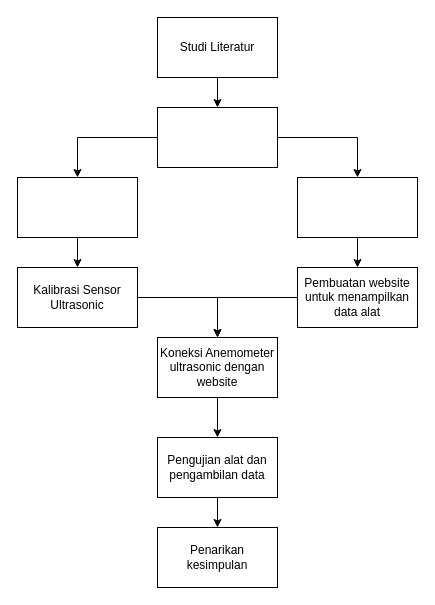
The diagram is 435 pixels wide and 605 high, and some of its shapes have lost their labels. Each missing label, with the box of its shape:
Perancangan Perangkat Keras: (16, 176, 138, 238)
Perancangan Perangkat Lunak: (296, 176, 418, 238)
Persiapan Rancang Bangun Anemometer Ultrasonic: (156, 106, 278, 168)
